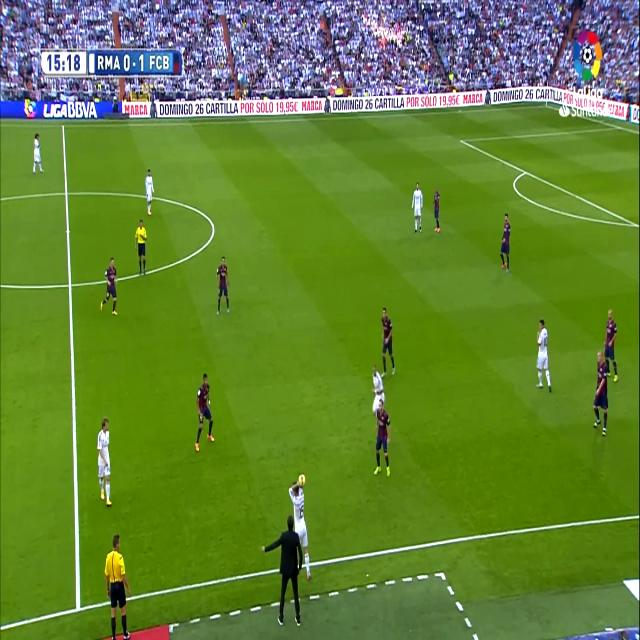bigarea_top_inner: (459, 134, 465, 147)
halfcircle_bottom: (65, 274, 75, 296)
halfcircle_top: (61, 184, 70, 202)
midline_bottom_intersection: (71, 592, 85, 619)
midline_top_intersection: (59, 120, 67, 132)
top_arc_area_intersection: (521, 164, 529, 178)
